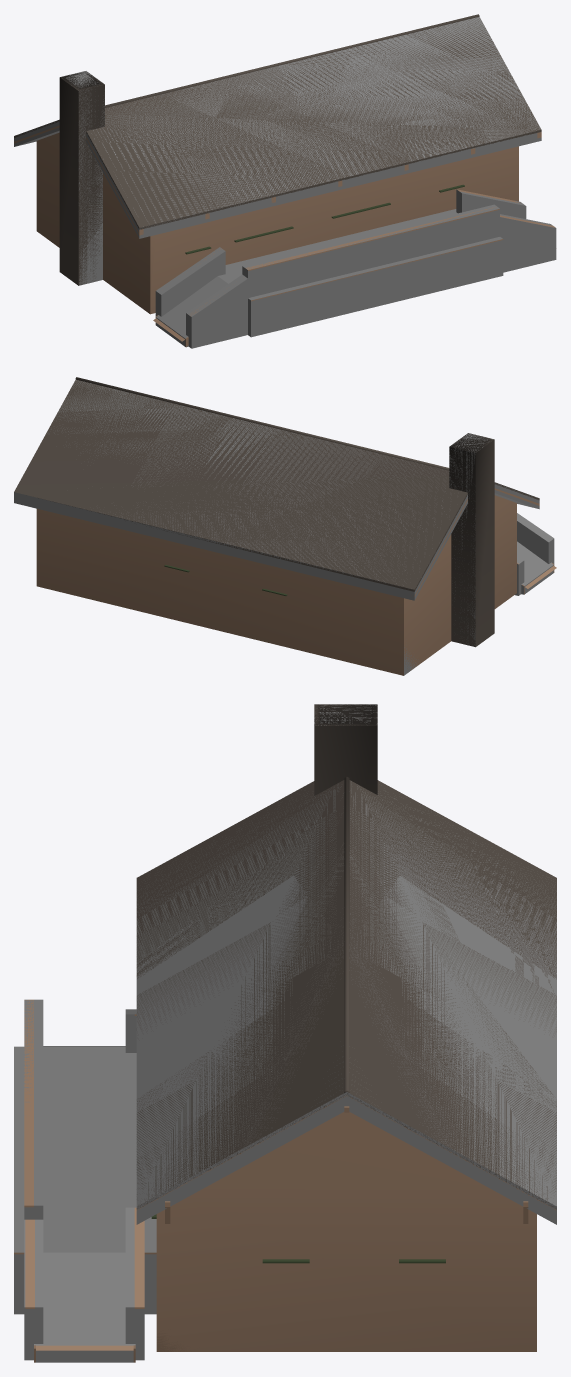
The model's file is cabin1.dae.
The picture shows the model from 3 angles, top to bottom: view 1: azimuth 30°, elevation 25°; view 2: azimuth 150°, elevation 25°; view 3: azimuth 270°, elevation 25°; orthographic projection. The views are drawn at different scales.
Parts seen in each view (by area): view 1: colmesh-1, cabine1_a400, cabine1_a50; view 2: cabine1_a400, cabine1_a50, colmesh-1, cabine1_a150; view 3: colmesh-1, cabine1_a400, cabine1_a50, cabine1_a150.
Part boxes in pixels (box(x1,y1,x2,y2)): colmesh-1: box(14, 17, 556, 348); cabine1_a400: box(14, 14, 555, 346); cabine1_a50: box(103, 146, 518, 341); cabine1_a400: box(14, 377, 554, 670); cabine1_a50: box(36, 495, 556, 675); colmesh-1: box(14, 380, 554, 675); cabine1_a150: box(450, 433, 492, 452); colmesh-1: box(14, 704, 556, 1362); cabine1_a400: box(14, 704, 556, 1362); cabine1_a50: box(36, 1112, 536, 1351); cabine1_a150: box(314, 704, 377, 725).
Bounding box in the file's own units: 16.75 × 11.42 × 7.81.
